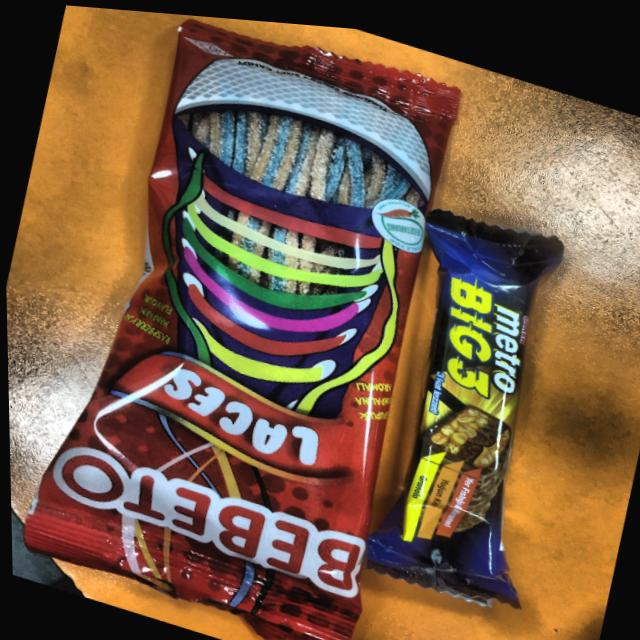Plastic: (20, 1, 530, 640), (354, 177, 609, 640)
